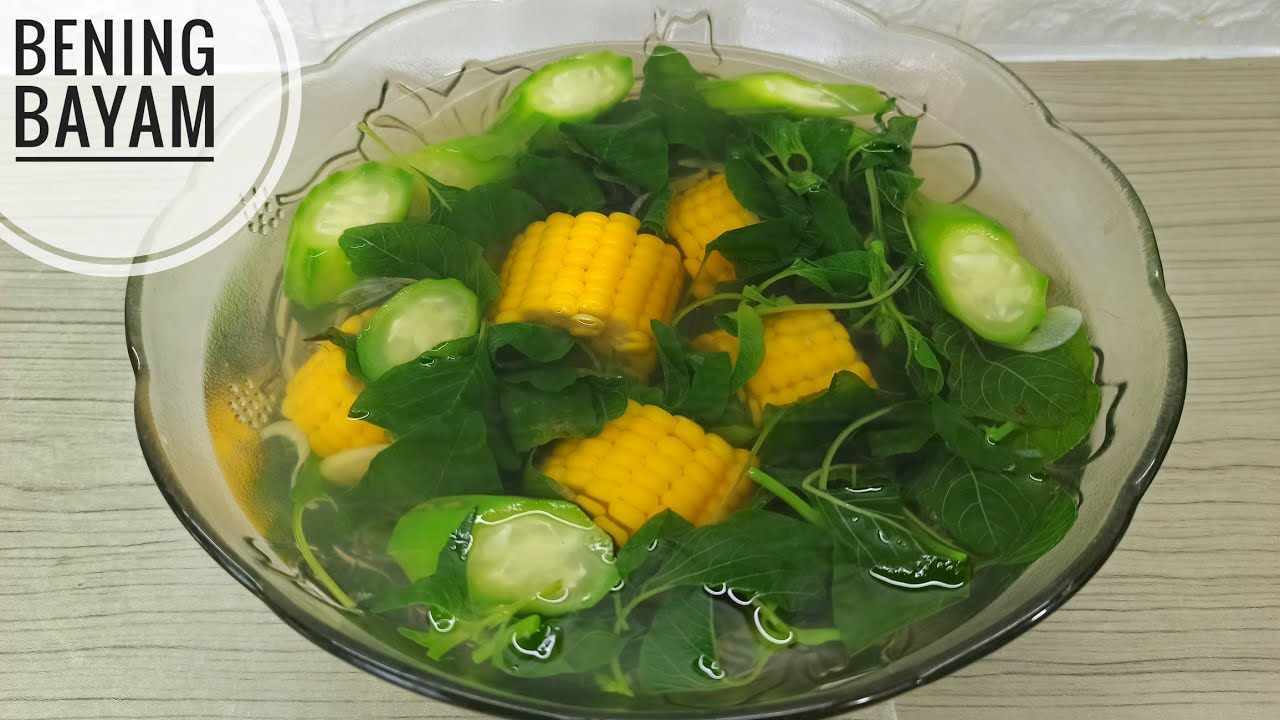Sayur Bayam: (306, 74, 1078, 720)
